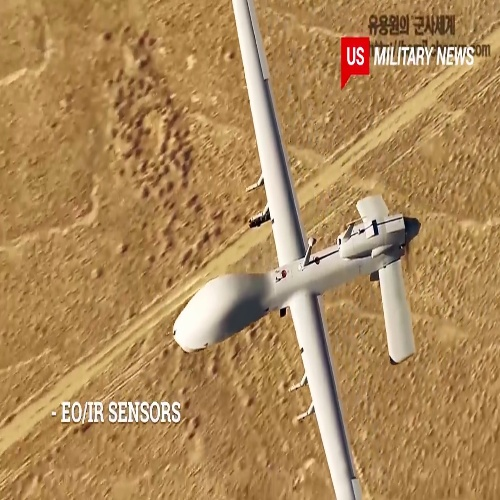uav582: (166, 1, 425, 500)
